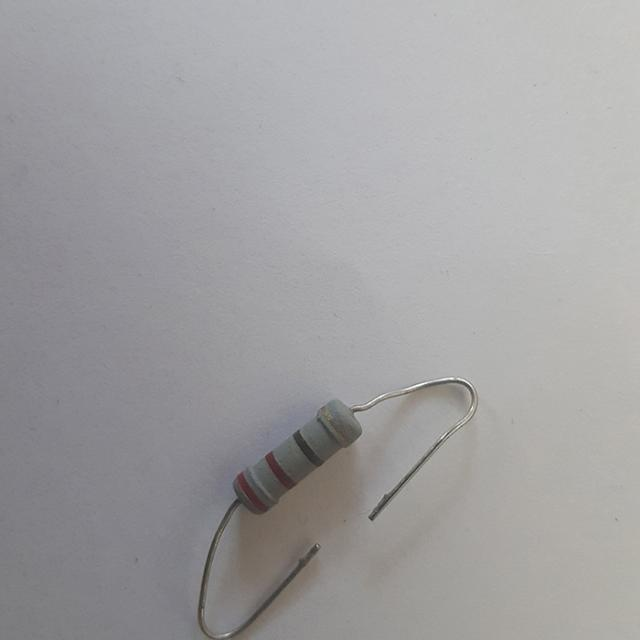brown: (294, 430, 324, 465)
gold: (320, 407, 349, 445)
red: (237, 471, 268, 509), (266, 452, 294, 488)
resistor: (201, 370, 382, 538)
